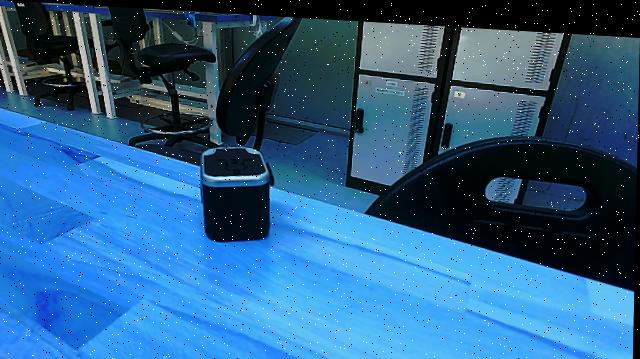adapter: (188, 137, 279, 243)
